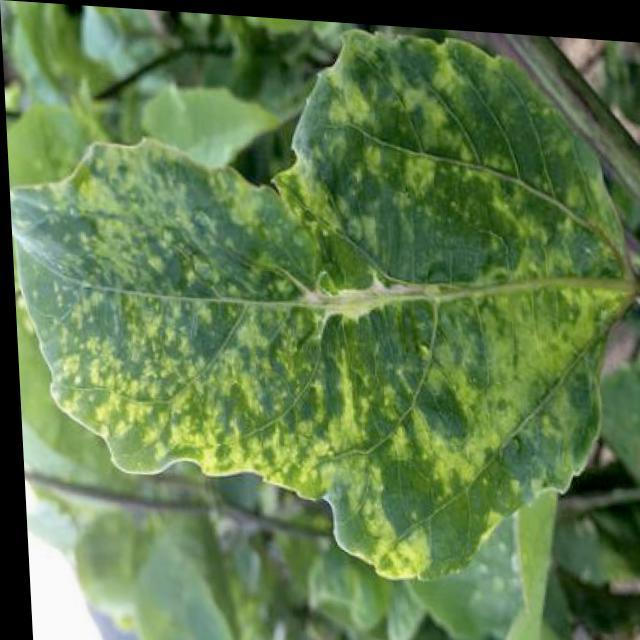Tomato yellow virus leaf: (13, 19, 639, 552)
